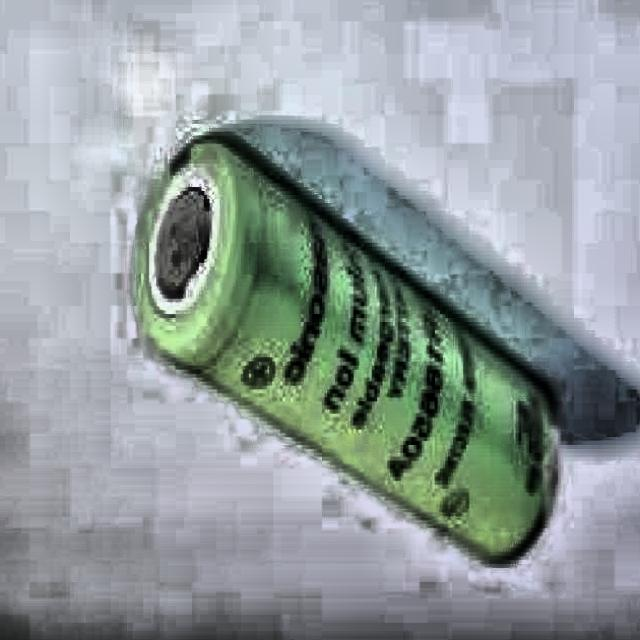Non-Valuable Waste - Batteries: (139, 137, 562, 566)
